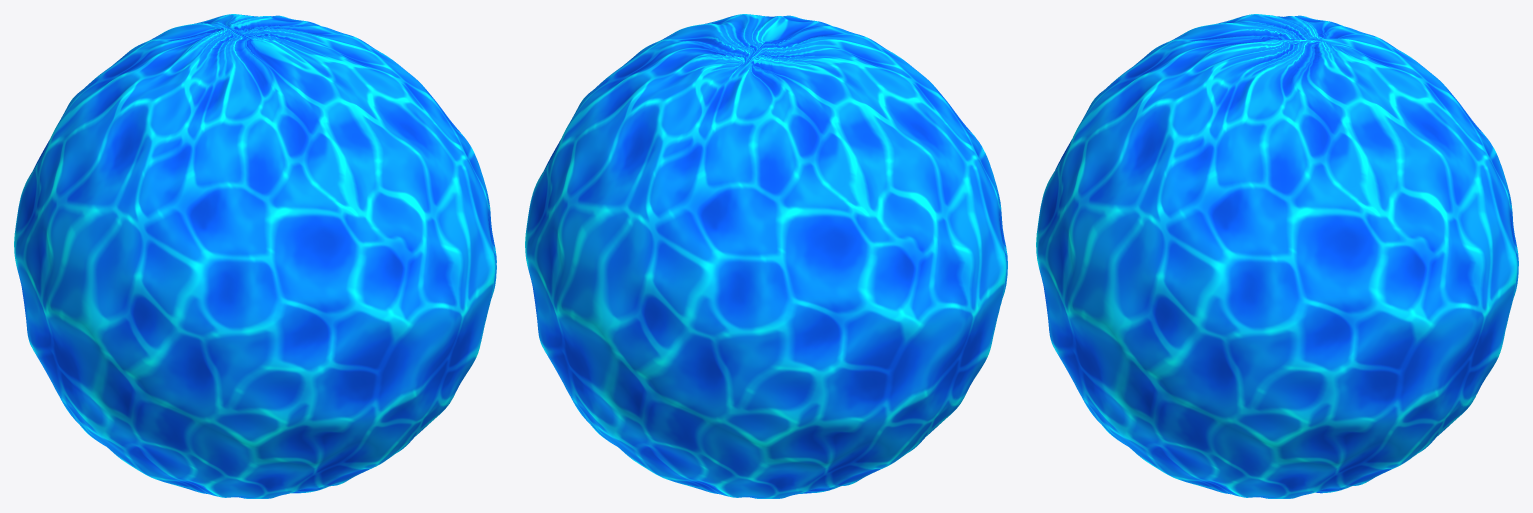
Rendered from Sky-zm5Z_l3F.glb.
3 renders of one model, left to right at view 1: azimuth 30°, elevation 25°; view 2: azimuth 150°, elevation 25°; view 3: azimuth 270°, elevation 25°, orthographic.
Parts seen in each view (by area): view 1: Sphere_0; view 2: Sphere_0; view 3: Sphere_0.
Part boxes in pixels (bbox=[...]): Sphere_0: bbox=[14, 14, 496, 498]; Sphere_0: bbox=[525, 14, 1007, 498]; Sphere_0: bbox=[1036, 14, 1518, 498].
Size of the model in its own units: 2.31 by 2.3 by 2.31.
1 material, 1 textured.
